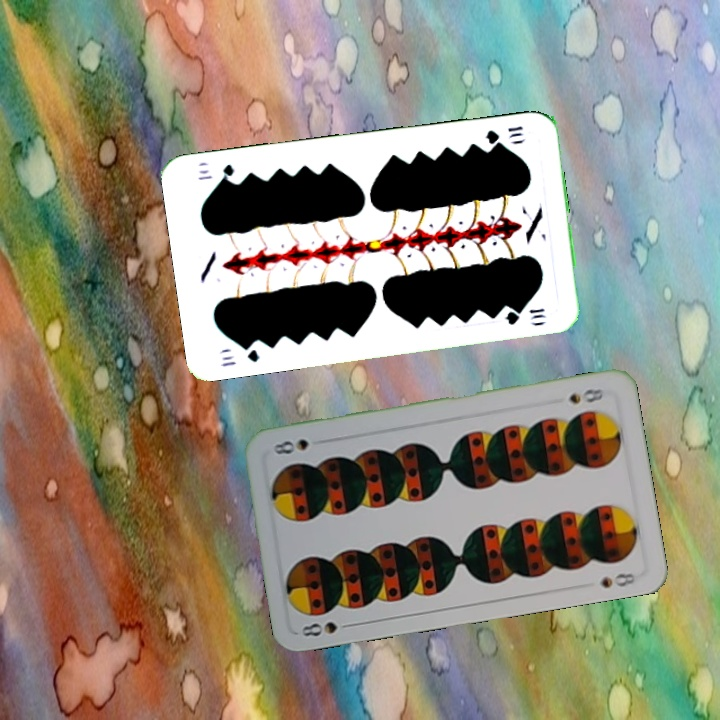G10: (216, 340, 262, 369), (482, 122, 526, 147)
S8: (298, 617, 356, 639), (564, 385, 608, 406)
